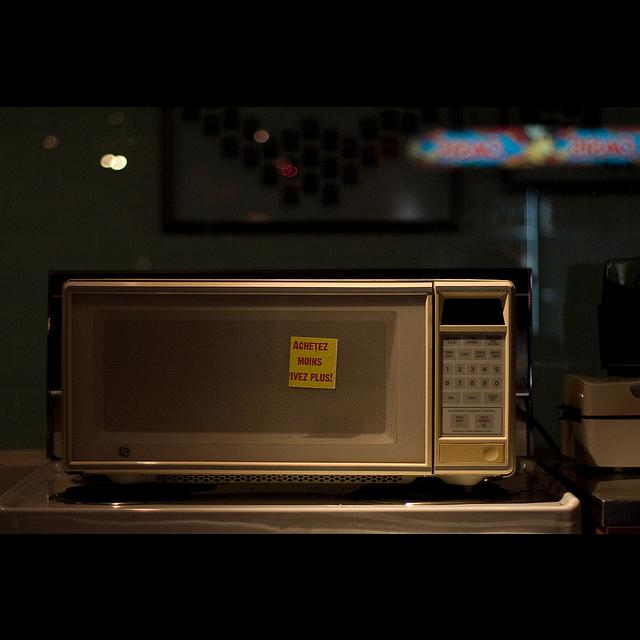Microwave: (60, 277, 516, 477)
